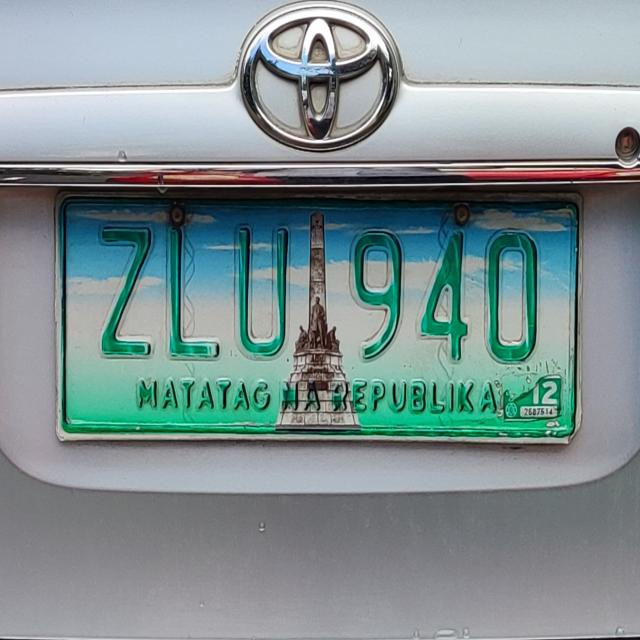plate: (46, 167, 594, 456)
